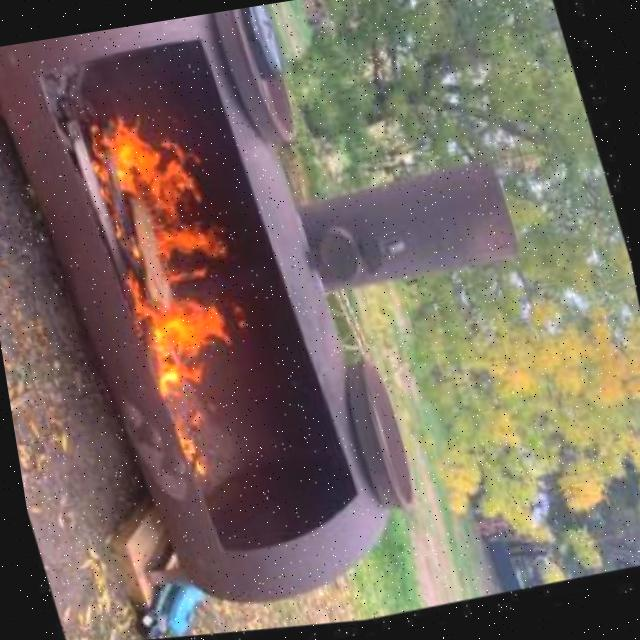fire: (59, 69, 284, 471)
